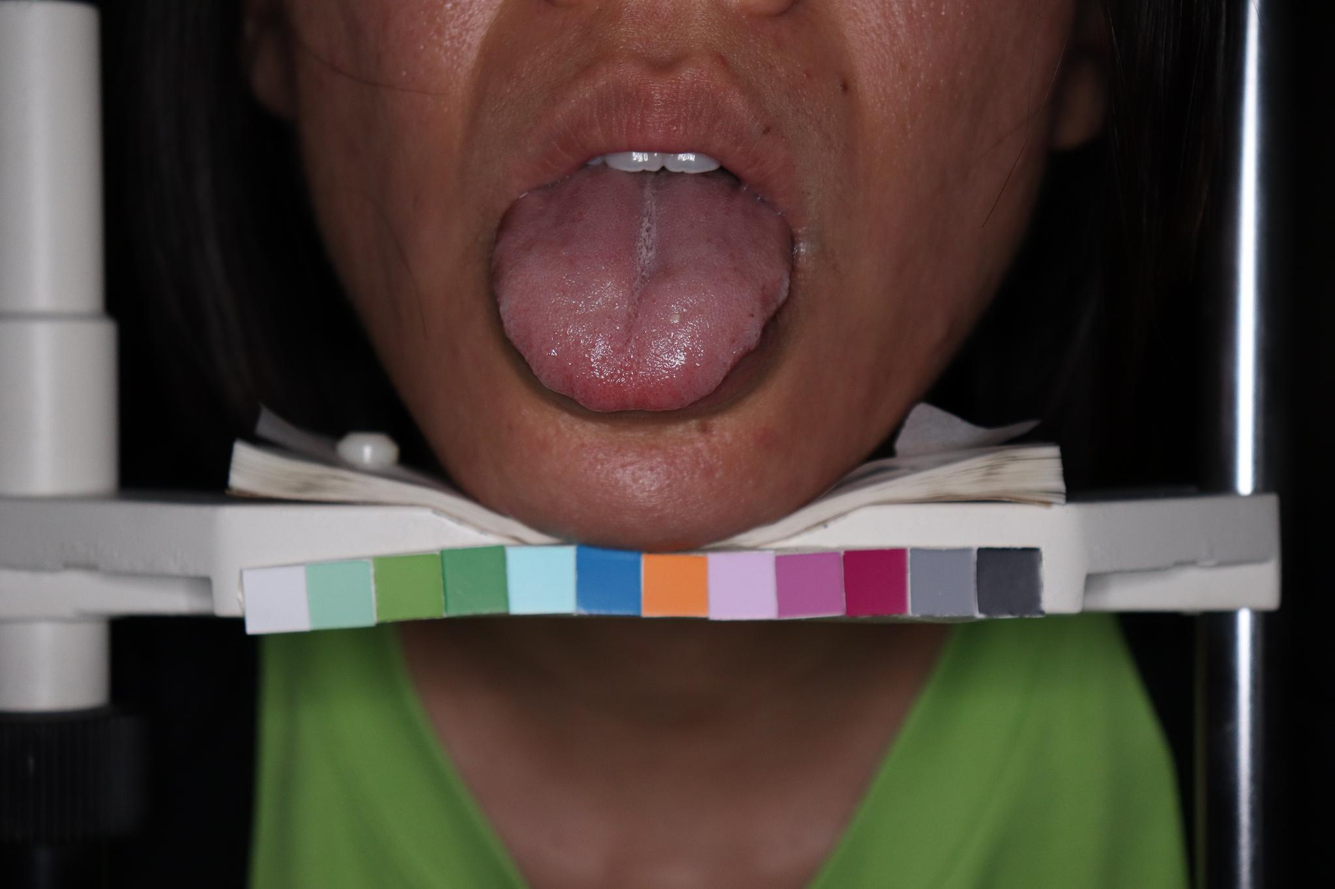baitaishe: (486, 162, 798, 416)
chihenshe: (487, 283, 600, 413), (727, 273, 792, 373)
piweiao: (613, 193, 686, 303)
